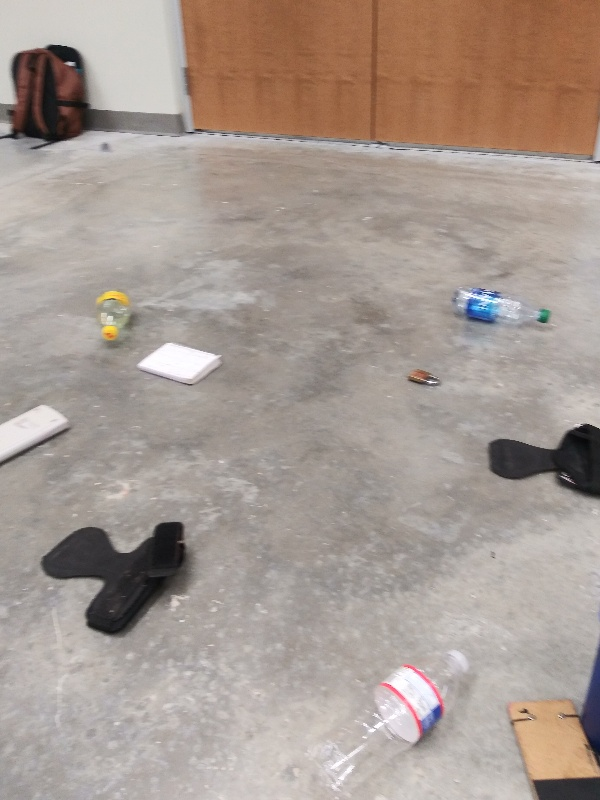bottle: (301, 646, 474, 795), (448, 282, 553, 334), (93, 282, 135, 347)
